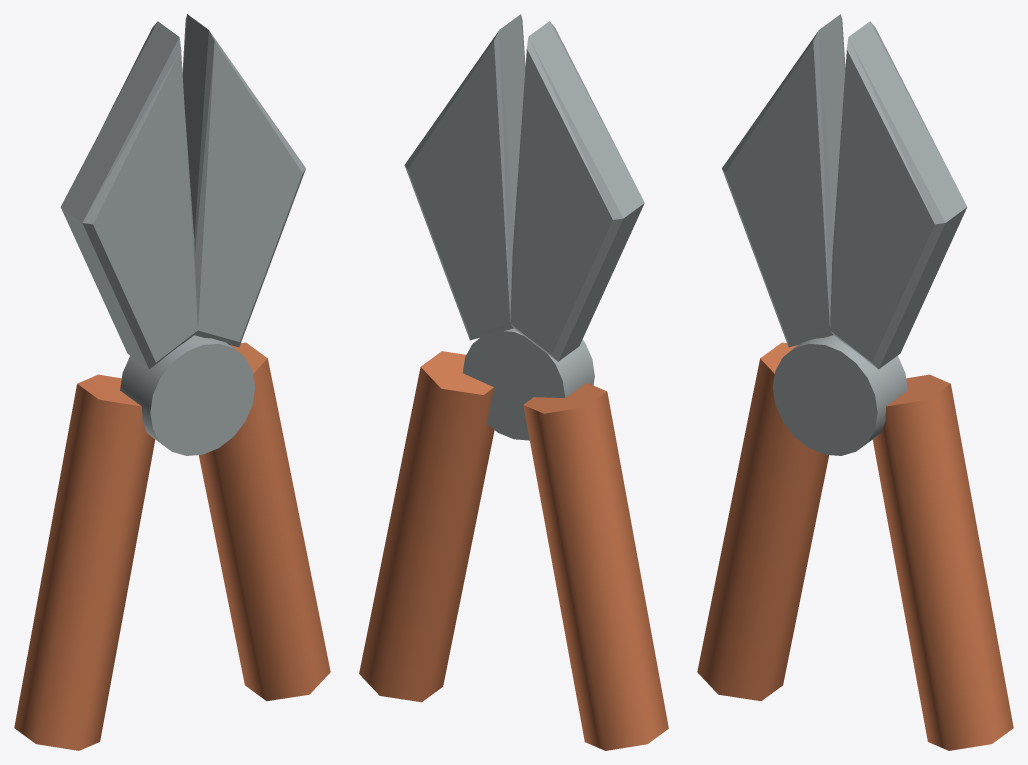
The model's file is salvage-and-repair-workshop-long-nose-pliers-cd167d28__25461.glb.
3 views of the same model, side by side, from view 1: azimuth 30°, elevation 25°; view 2: azimuth 150°, elevation 25°; view 3: azimuth 330°, elevation 25° (orthographic). The views are drawn at different scales.
Parts seen in each view (by area): view 1: long-nose-pliers; view 2: long-nose-pliers; view 3: long-nose-pliers.
Part boxes in pixels (box(x1,y1,x2,y2)): long-nose-pliers: box(14, 14, 330, 750); long-nose-pliers: box(359, 14, 668, 750); long-nose-pliers: box(697, 14, 1013, 750).
Bounding box in the file's own units: 0.1406 × 0.3172 × 0.043.
